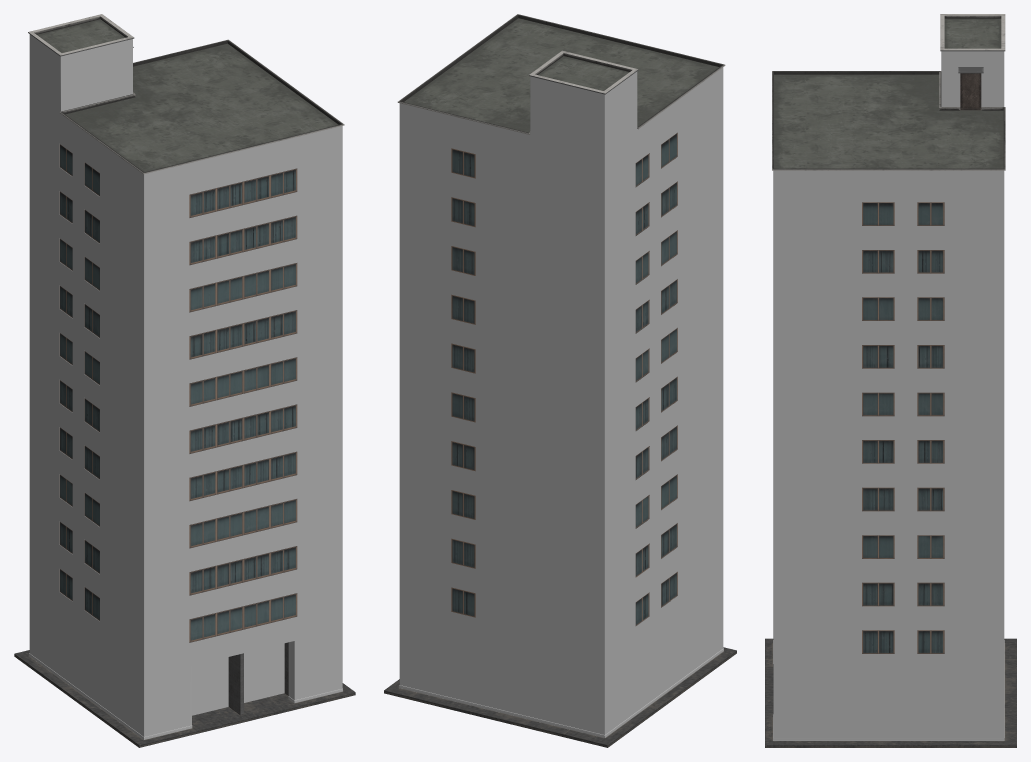
File: BldG_low.fbx
The picture shows the model from 3 angles, left to right: view 1: azimuth 30°, elevation 25°; view 2: azimuth 150°, elevation 25°; view 3: azimuth 270°, elevation 25°; orthographic projection. The views are drawn at different scales.
Visible parts, largest first — view 1: BldG_low; view 2: BldG_low; view 3: BldG_low.
Boxes of the visible parts, x1=… form: BldG_low: x1=14, y1=14, x2=355, y2=747; BldG_low: x1=384, y1=14, x2=736, y2=747; BldG_low: x1=765, y1=14, x2=1016, y2=747.
Size of the model in its own units: 1200 by 3320 by 1200.
